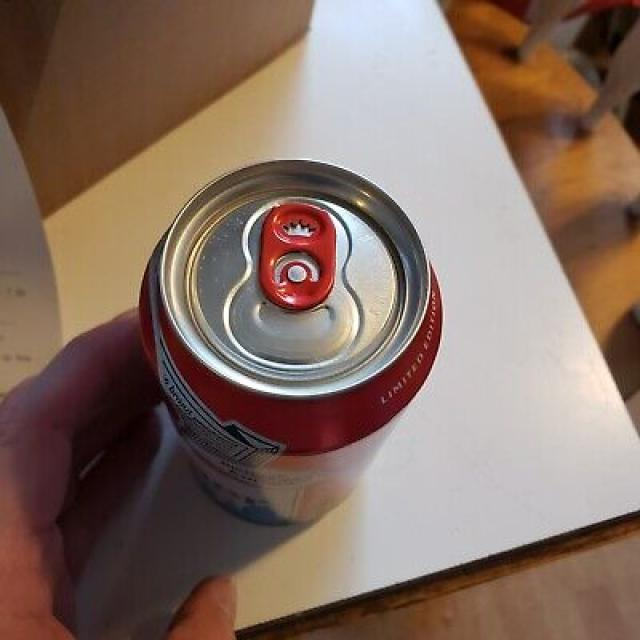can: (136, 156, 442, 526)
